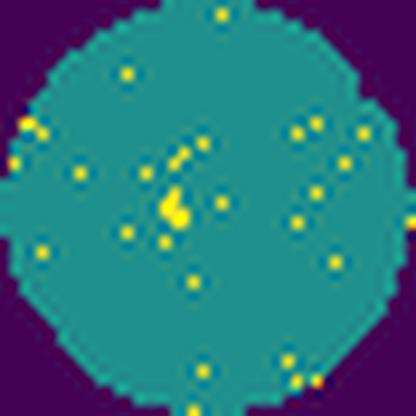Center: (161, 182, 196, 233)
